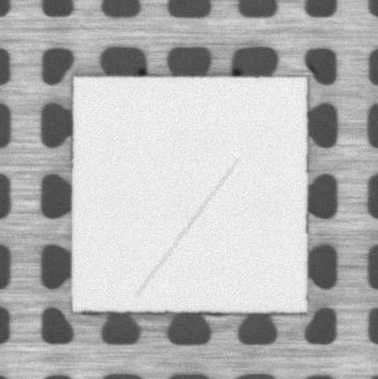DIE_CRACK: (137, 159, 238, 296)
